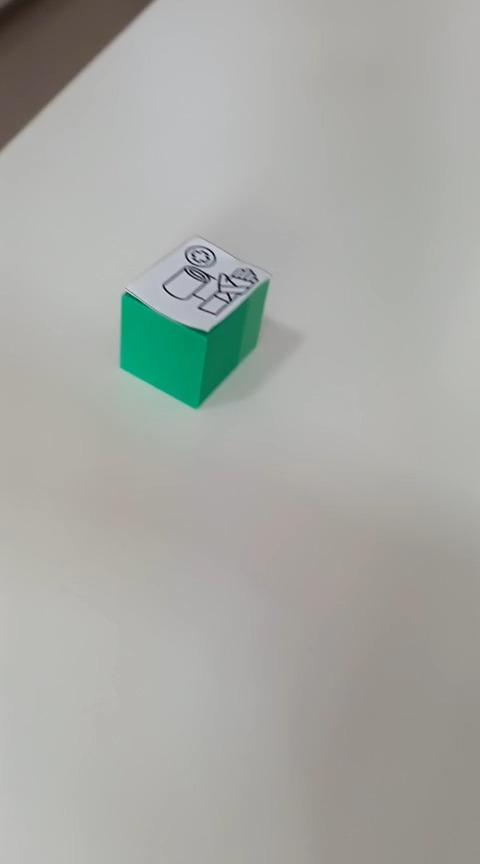Bandages: (118, 233, 272, 409)
